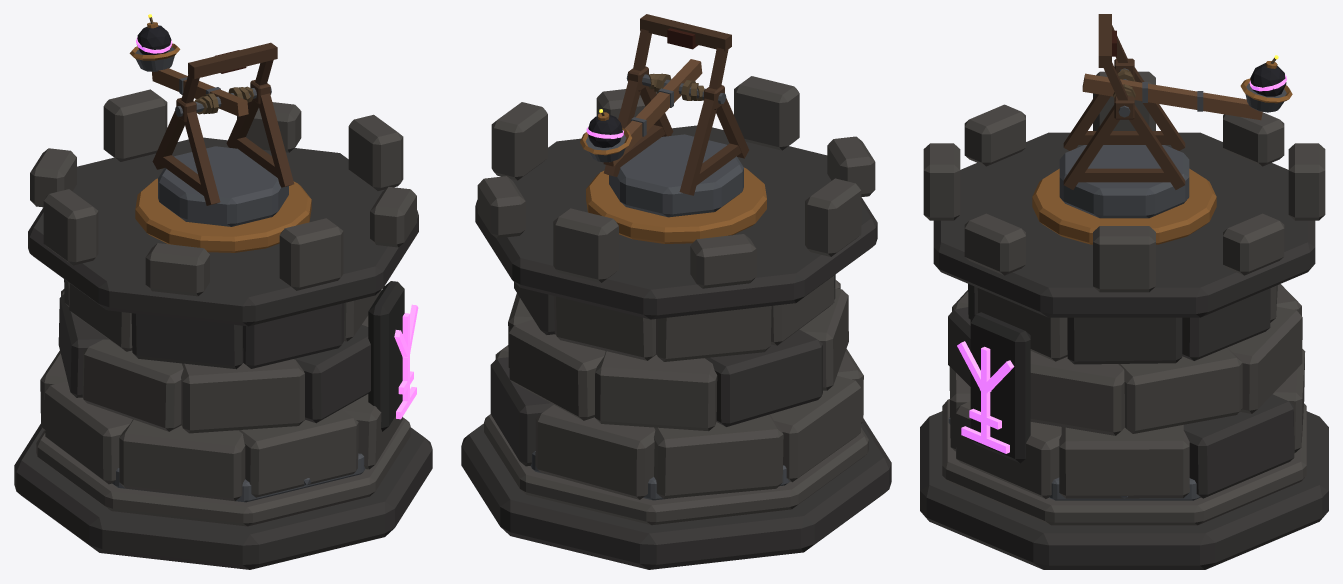
File: bomb_tower_lvl1.glb
3 views of the same model, side by side, from view 1: azimuth 30°, elevation 25°; view 2: azimuth 150°, elevation 25°; view 3: azimuth 270°, elevation 25° (orthographic). The views are drawn at different scales.
Visible parts, largest first — view 1: Platform, Plinth, Plinth_Step, Block_0_5, Block_1_5, Block_0_6, Turret_Base, Block_1_4, Turret_Ring, Block_0_4, Block_2_5, Block_1_6 (+25 smaller); view 2: Platform, Plinth, Plinth_Step, Block_0_3, Block_1_2, Block_0_2, Block_1_3, Turret_Base, Block_1_1, Turret_Ring, Block_0_4, Block_2_3 (+22 smaller); view 3: Platform, Plinth, Plinth_Step, Block_0_0, Block_1_0, Block_0_1, Block_1_7, Turret_Base, RuneStone_0, Block_2_0, Turret_Ring, Block_1_1 (+25 smaller).
Part boxes in pixels (x1=…): Platform: x1=28, y1=137, x2=418, y2=326; Plinth: x1=14, y1=424, x2=432, y2=569; Plinth_Step: x1=36, y1=417, x2=410, y2=526; Block_0_5: x1=119, y1=419, x2=245, y2=501; Block_1_5: x1=181, y1=359, x2=304, y2=433; Block_0_6: x1=238, y1=409, x2=358, y2=497; Turret_Base: x1=158, y1=146, x2=288, y2=226; Block_1_4: x1=82, y1=339, x2=183, y2=431; Turret_Ring: x1=135, y1=178, x2=311, y2=252; Block_0_4: x1=45, y1=381, x2=132, y2=484; Block_2_5: x1=131, y1=313, x2=243, y2=369; Block_1_6: x1=294, y1=325, x2=370, y2=423; Platform: x1=475, y1=125, x2=877, y2=319; Plinth: x1=461, y1=418, x2=891, y2=569; Plinth_Step: x1=484, y1=414, x2=868, y2=525; Block_0_3: x1=654, y1=414, x2=783, y2=498; Block_1_2: x1=595, y1=351, x2=717, y2=431; Block_0_2: x1=535, y1=405, x2=655, y2=499; Block_1_3: x1=705, y1=329, x2=822, y2=426; Turret_Base: x1=609, y1=134, x2=743, y2=217; Block_1_1: x1=509, y1=320, x2=605, y2=420; Turret_Ring: x1=586, y1=167, x2=766, y2=243; Block_0_4: x1=770, y1=376, x2=861, y2=482; Block_2_3: x1=656, y1=306, x2=771, y2=361; Platform: x1=933, y1=132, x2=1315, y2=317; Plinth: x1=920, y1=411, x2=1328, y2=569; Plinth_Step: x1=942, y1=399, x2=1306, y2=525; Block_0_0: x1=1059, y1=425, x2=1189, y2=498; Block_1_0: x1=1118, y1=347, x2=1242, y2=433; Block_0_1: x1=1183, y1=394, x2=1294, y2=498; Block_1_7: x1=1030, y1=351, x2=1124, y2=435; Turret_Base: x1=1059, y1=145, x2=1189, y2=218; RuneStone_0: x1=970, y1=312, x2=1030, y2=463; Block_2_0: x1=1067, y1=317, x2=1182, y2=364; Turret_Ring: x1=1032, y1=168, x2=1216, y2=244; Block_1_1: x1=1227, y1=306, x2=1302, y2=413.
Size of the model in its own units: 2.22 by 2.71 by 2.22.
